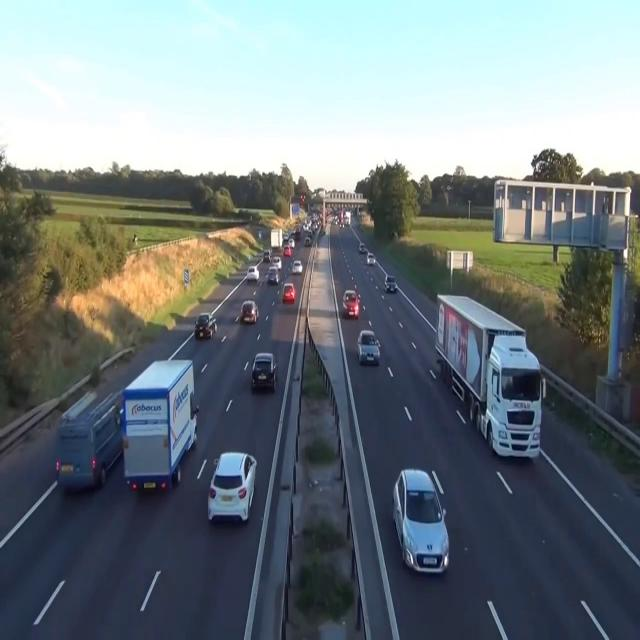belum terisi: (432, 272, 552, 476), (114, 334, 206, 506), (386, 455, 457, 595), (50, 378, 125, 499), (203, 434, 259, 542), (248, 336, 284, 400), (352, 321, 385, 372), (192, 302, 225, 351), (236, 295, 262, 330), (382, 267, 400, 302), (343, 284, 359, 322), (280, 277, 296, 305)
